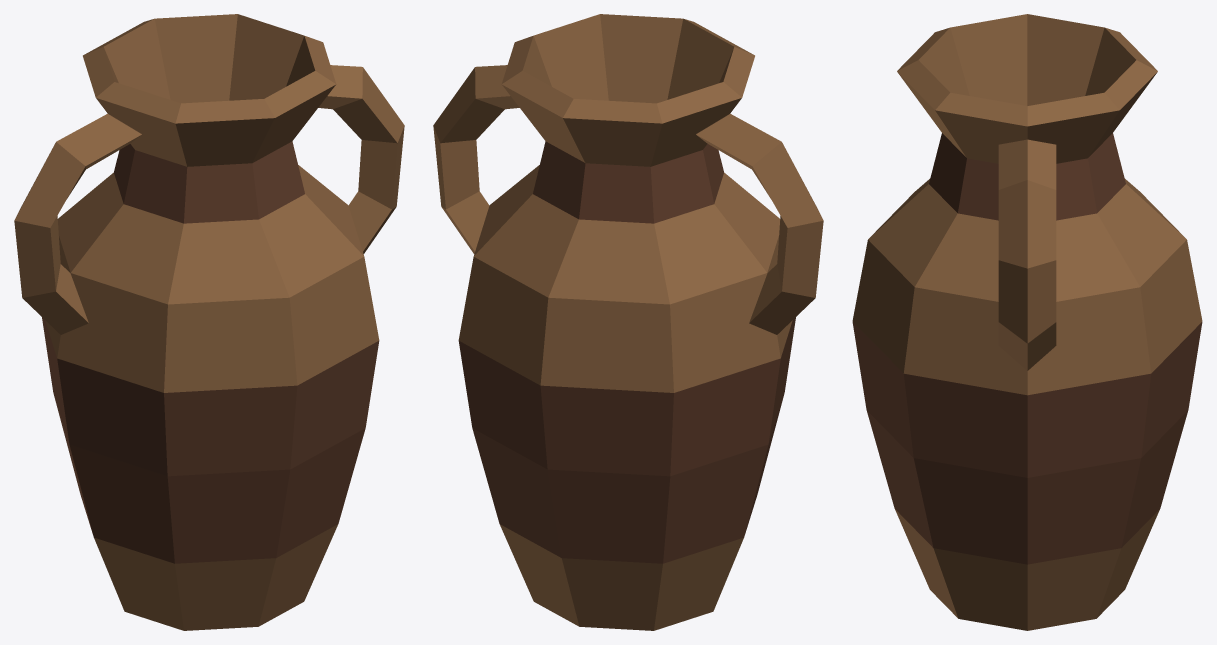
Rendered from Pot_Tall_Large.gltf.
3 views of the same model, side by side, from view 1: azimuth 30°, elevation 25°; view 2: azimuth 150°, elevation 25°; view 3: azimuth 270°, elevation 25° (orthographic).
Parts seen in each view (by area): view 1: Pot_Tall_Large2; view 2: Pot_Tall_Large2; view 3: Pot_Tall_Large2.
Boxes of the visible parts, left/top/right/bottom form: Pot_Tall_Large2: left=14, top=14, right=404, bottom=630; Pot_Tall_Large2: left=433, top=14, right=823, bottom=630; Pot_Tall_Large2: left=852, top=14, right=1202, bottom=630.
Bounding box in the file's own units: 0.2197 × 0.2862 × 0.1714.
1 material, 1 textured.
